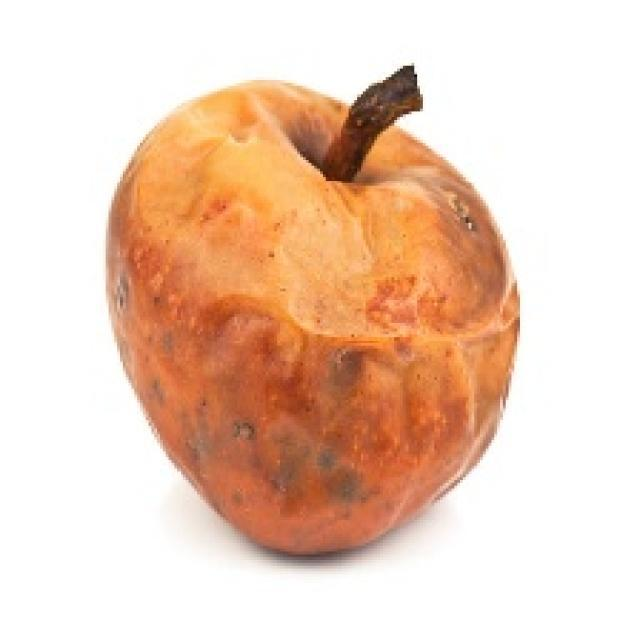apple: (107, 81, 518, 553)
